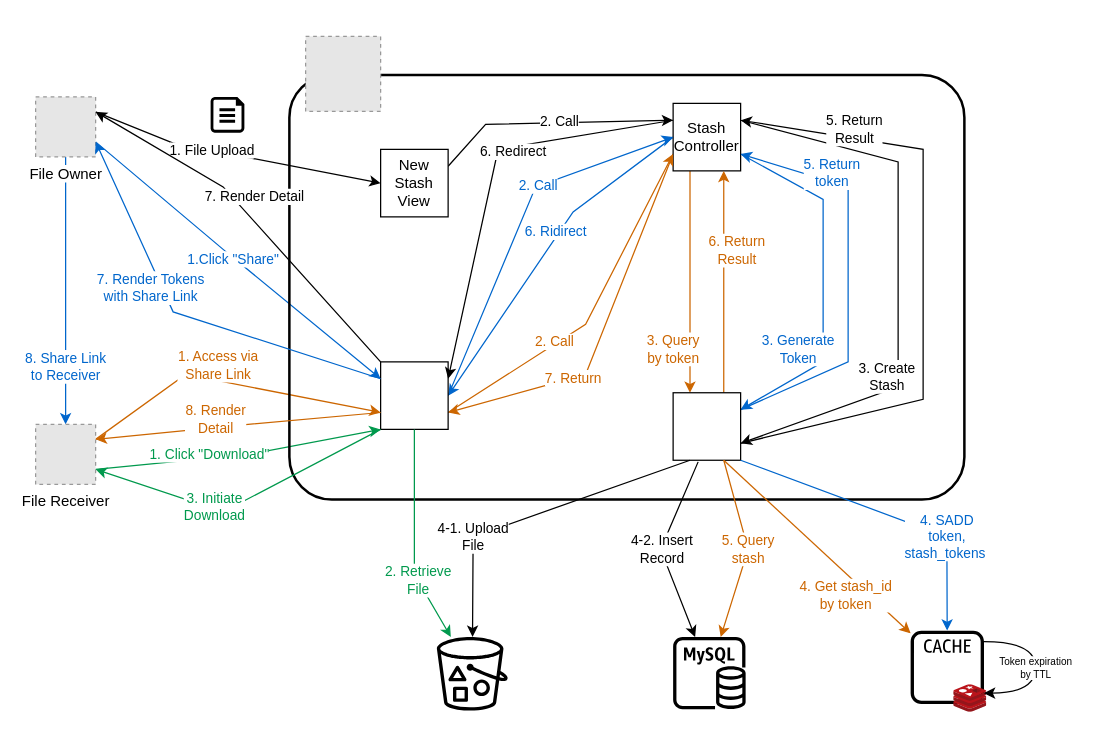
Some shapes in this 1093 by 738 pixel diagram are drawn without their labels. Grey dashed boxes stand in for pictures. Each missing label, with the box of its shape:
Stash Detail View: (379, 361, 448, 429)
Stash Model: (672, 392, 741, 460)
